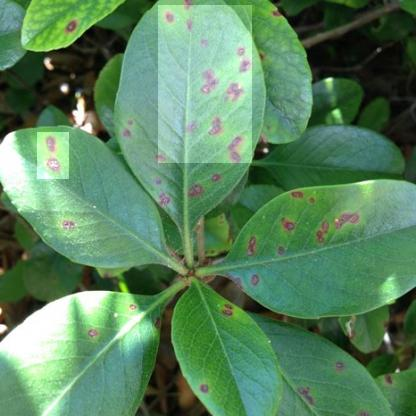black-spot: (158, 5, 252, 163), (270, 203, 375, 268), (37, 132, 69, 179)
